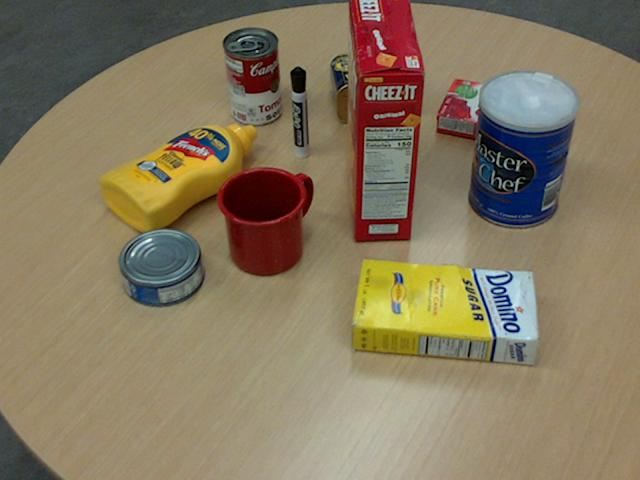cracker_box: (343, 0, 423, 239)
gelatin_box: (435, 77, 509, 141)
large_marker: (290, 66, 307, 158)
master_chef_can: (468, 70, 577, 229)
mug: (214, 166, 311, 275)
mustard_bottle: (98, 123, 256, 232)
potted_meat_can: (330, 48, 416, 122)
sugar_box: (350, 260, 539, 365)
tomato_soup_can: (223, 25, 281, 123)
tuna_fish_can: (116, 228, 203, 306)
